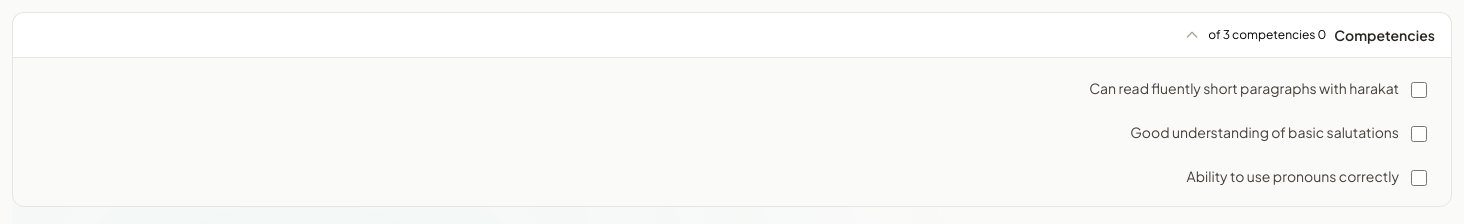
Test case: LessonCompetencies | "X of N" counter › updates counter when multiple checkboxes are toggled
The width and height of the screenshot is (1464, 224).
Click the checkbox labelled "Can read fluently short paragraphs with harakat": (1419, 90) [1411,82,1427,98]
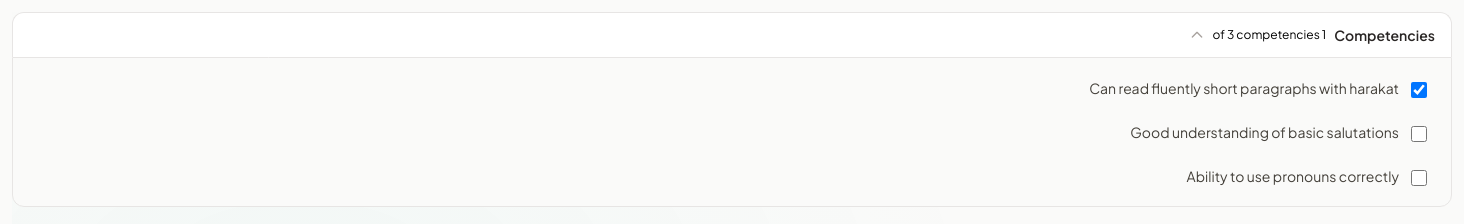
Click the checkbox labelled "Good understanding of basic salutations": (1419, 134) [1411,126,1427,142]
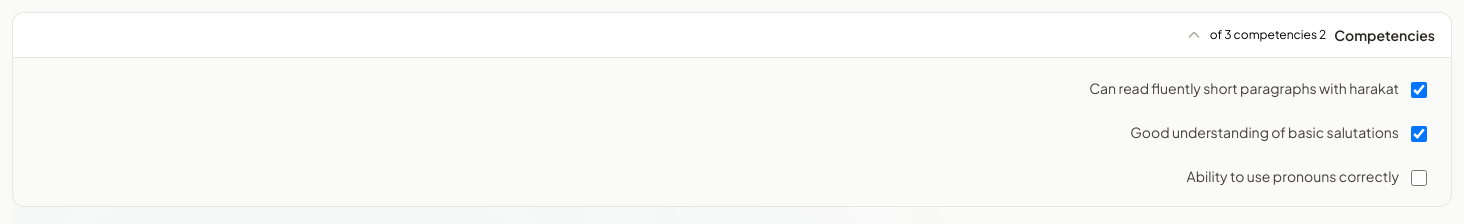
Check: the text with test id "competency-counter" shows "2 of 3", box [1210,27,1326,42]
